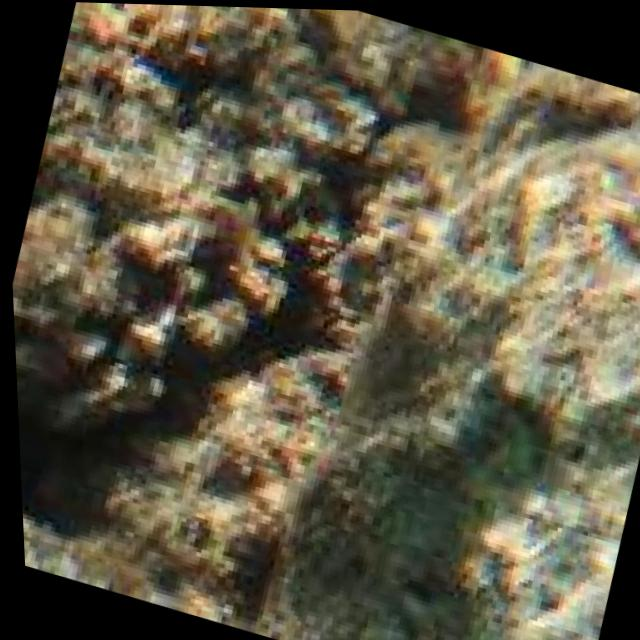Dead Coral: (0, 0, 441, 515)
